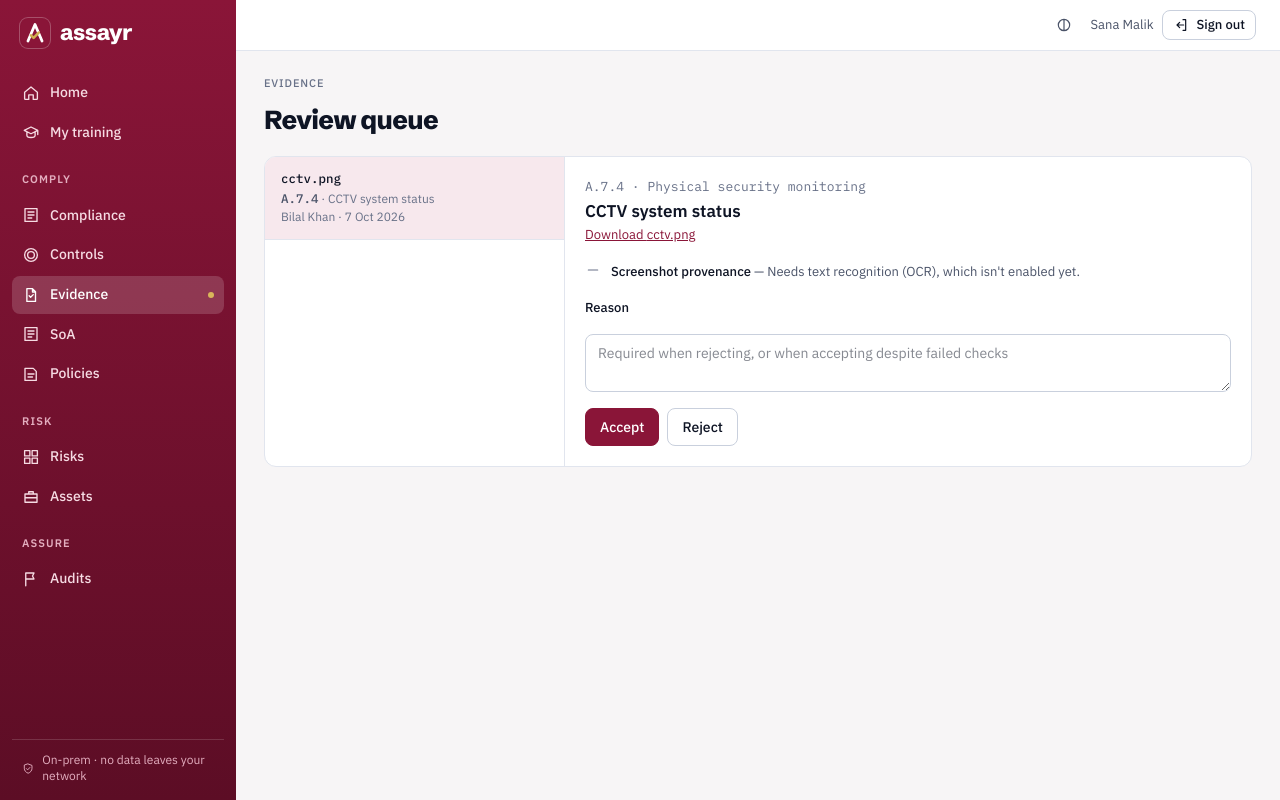
the server's refusal is shown
Click the button "Accept".
click(622, 427)  # box [585,408,659,446]
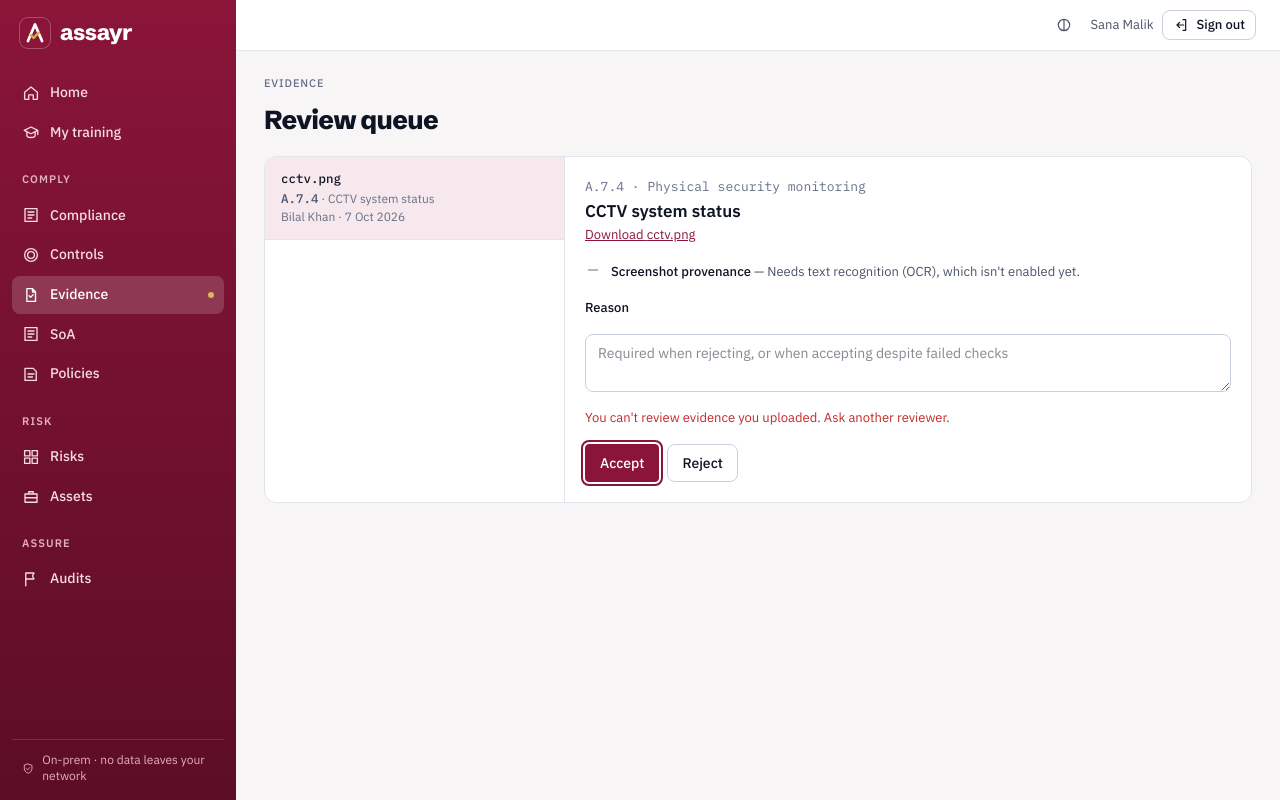
Check: the message shows "You can't review evidence you uploaded.", box [585,409,950,426]
